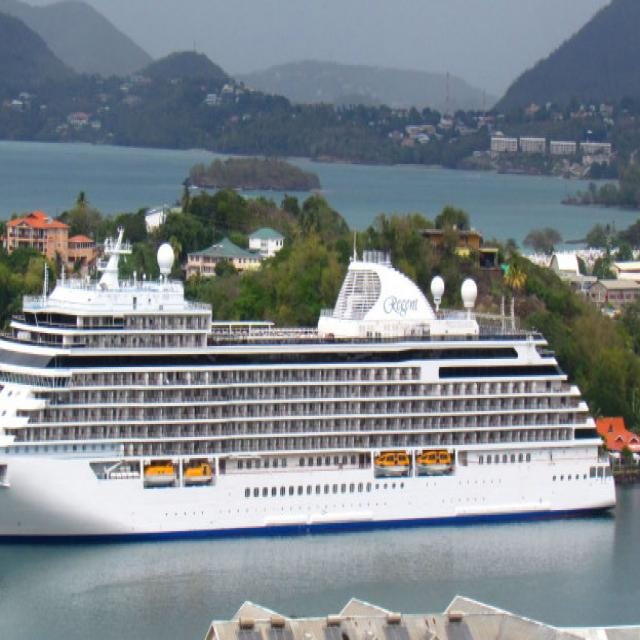cruises: (1, 222, 631, 534)
